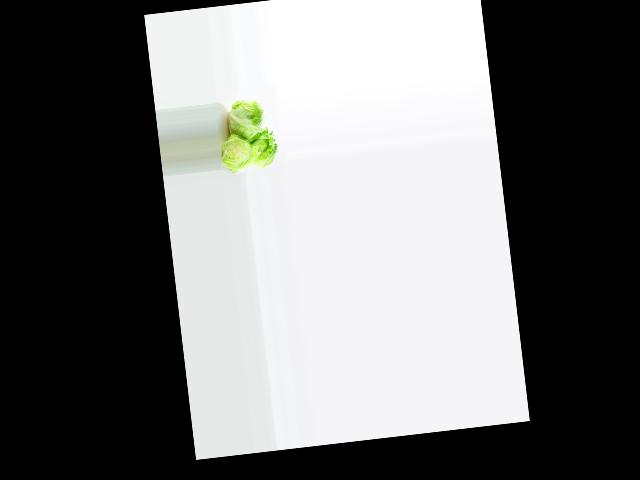lettuce: (244, 124, 283, 170)
